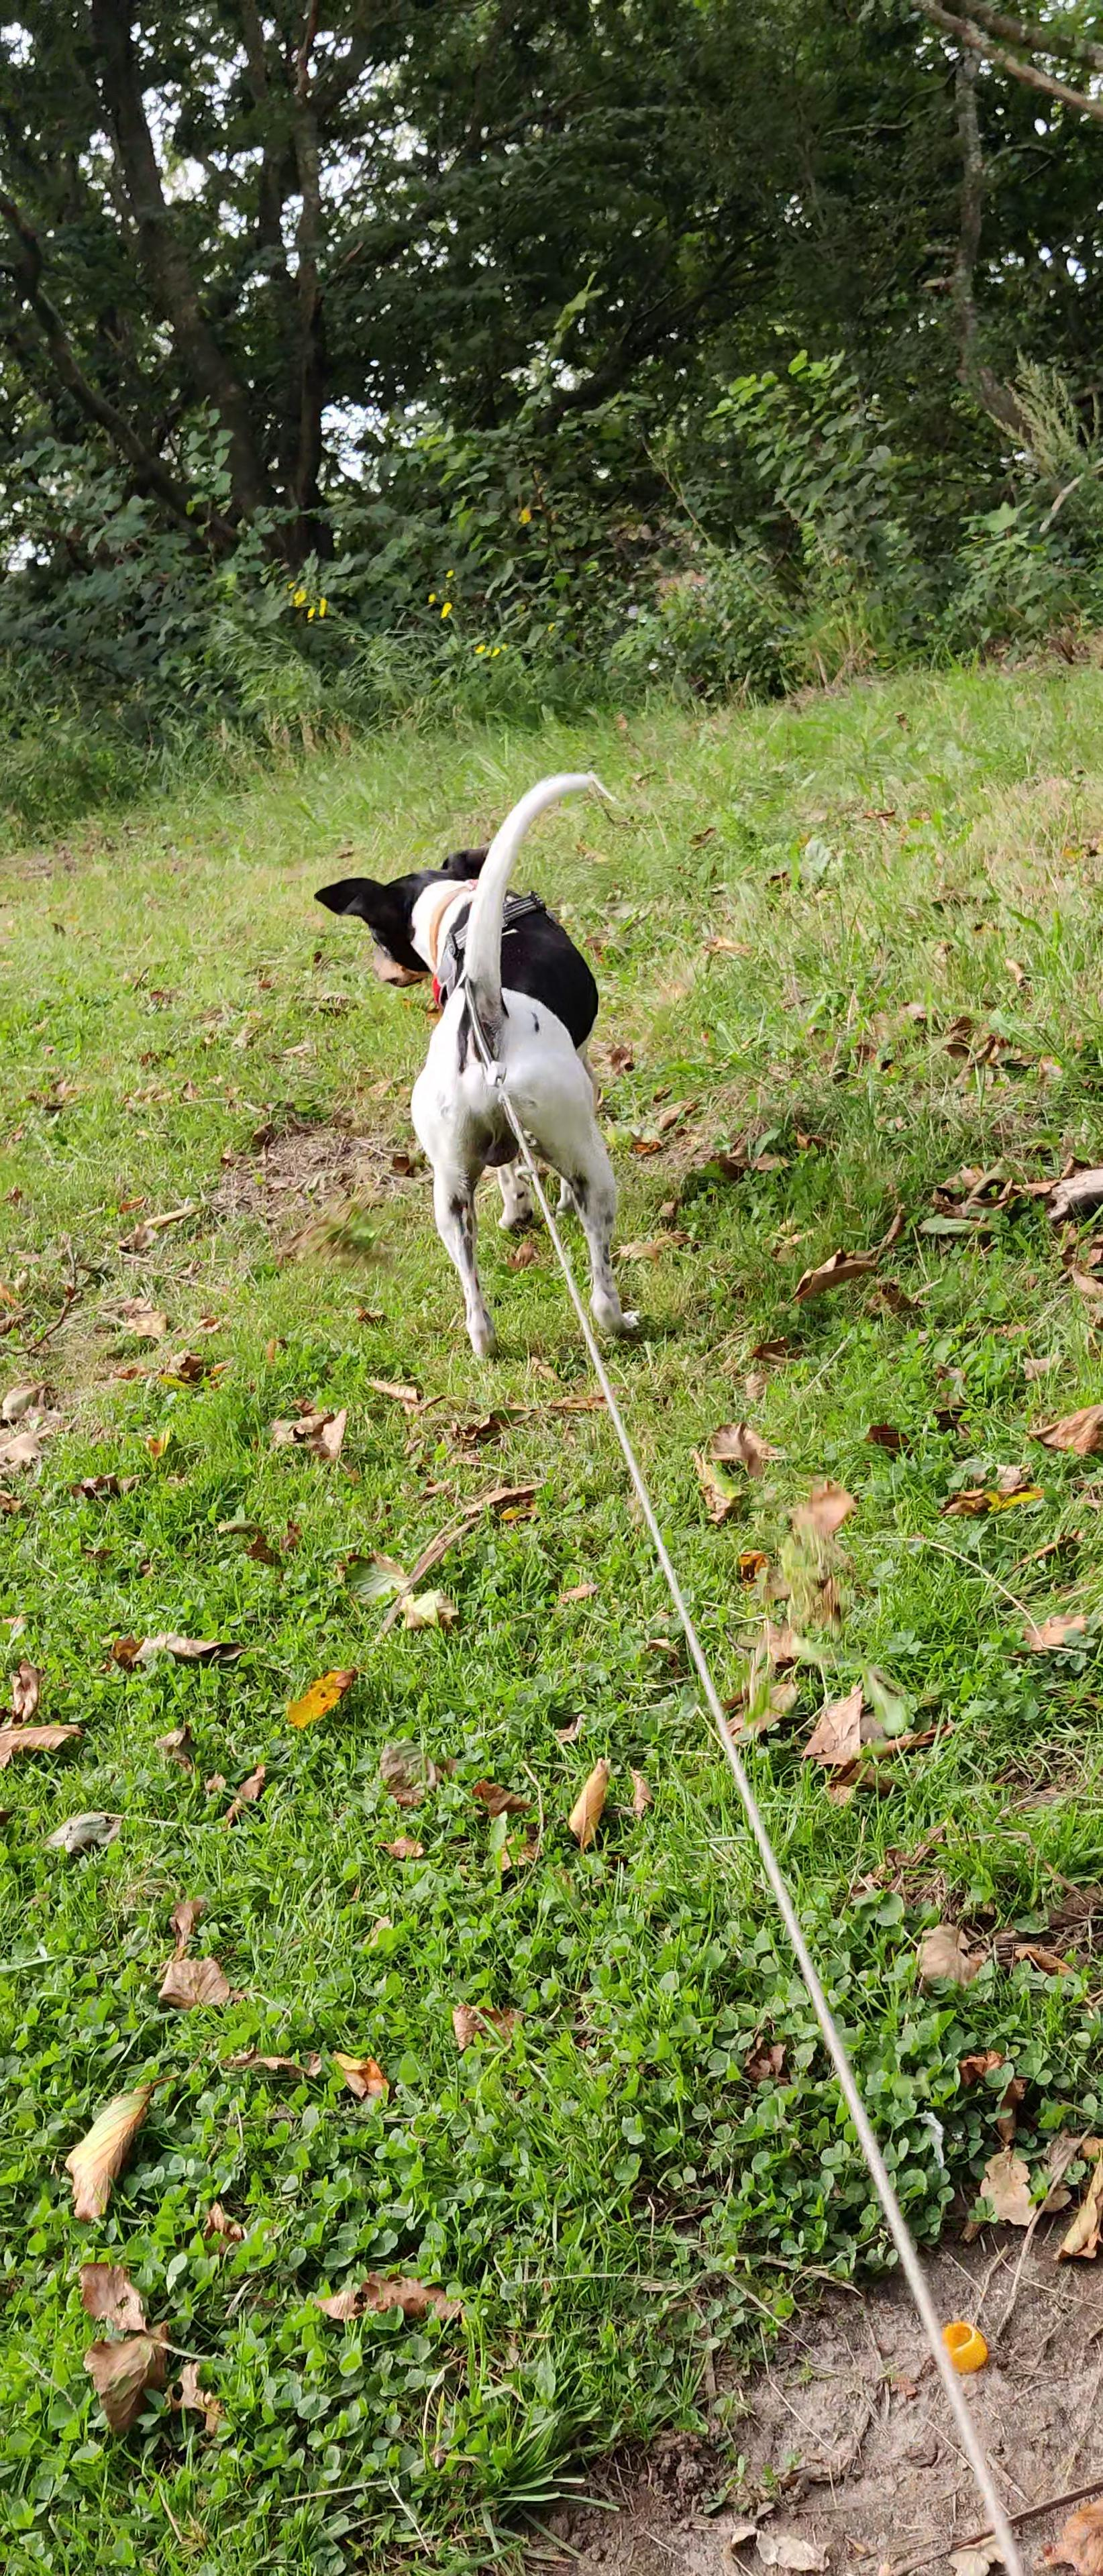Dog: (296, 749, 654, 1388)
